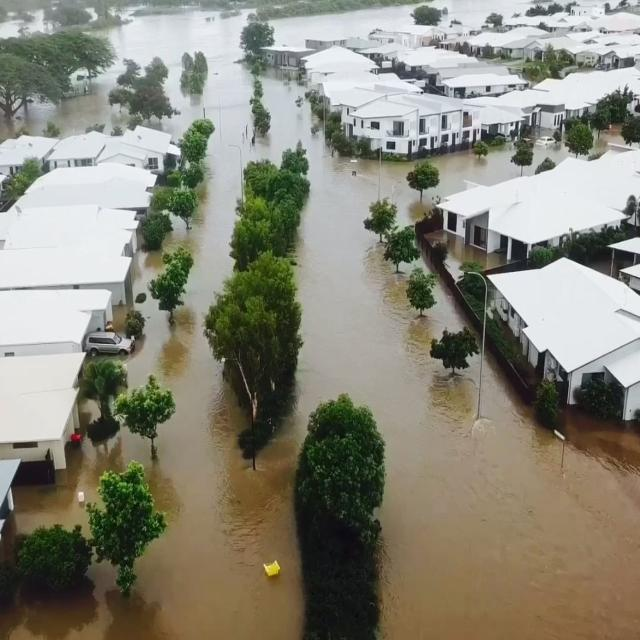flooded_areas: (16, 8, 606, 617)
